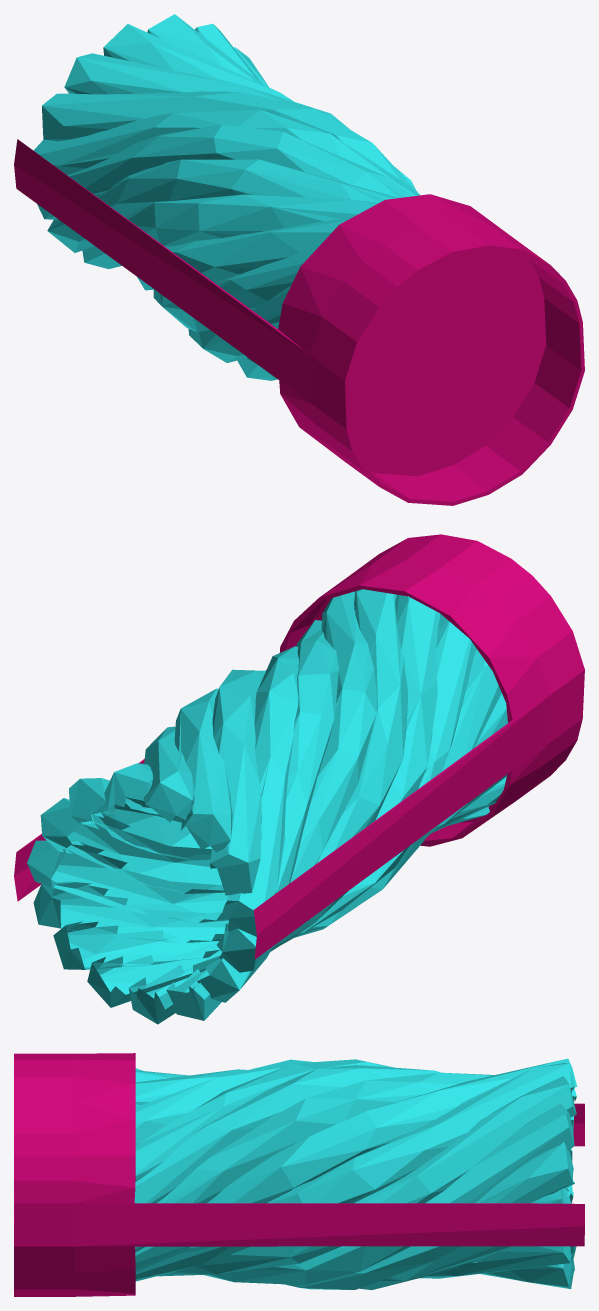
The model's file is Power_Line_2.fbx.
3 views of the same model, one above another, from view 1: azimuth 30°, elevation 25°; view 2: azimuth 150°, elevation 25°; view 3: azimuth 270°, elevation 25° (orthographic). The views are drawn at different scales.
Parts seen in each view (by area): view 1: Power_Cable_LOD0; view 2: Power_Cable_LOD0; view 3: Power_Cable_LOD0.
Part boxes in pixels (x1,y1,x2,y2): Power_Cable_LOD0: (14,14,584,505); Power_Cable_LOD0: (14,534,584,1024); Power_Cable_LOD0: (14,1053,584,1296).
Size of the model in its own units: 200 by 200 by 470.
